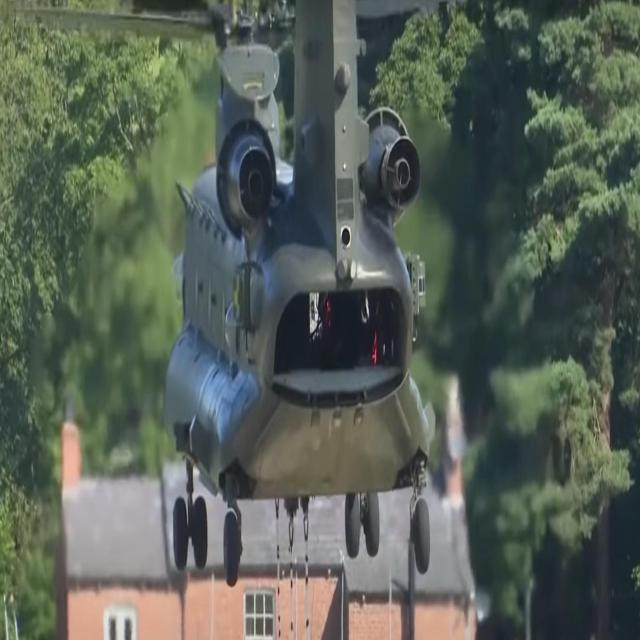Helicopter: (114, 69, 472, 562)
